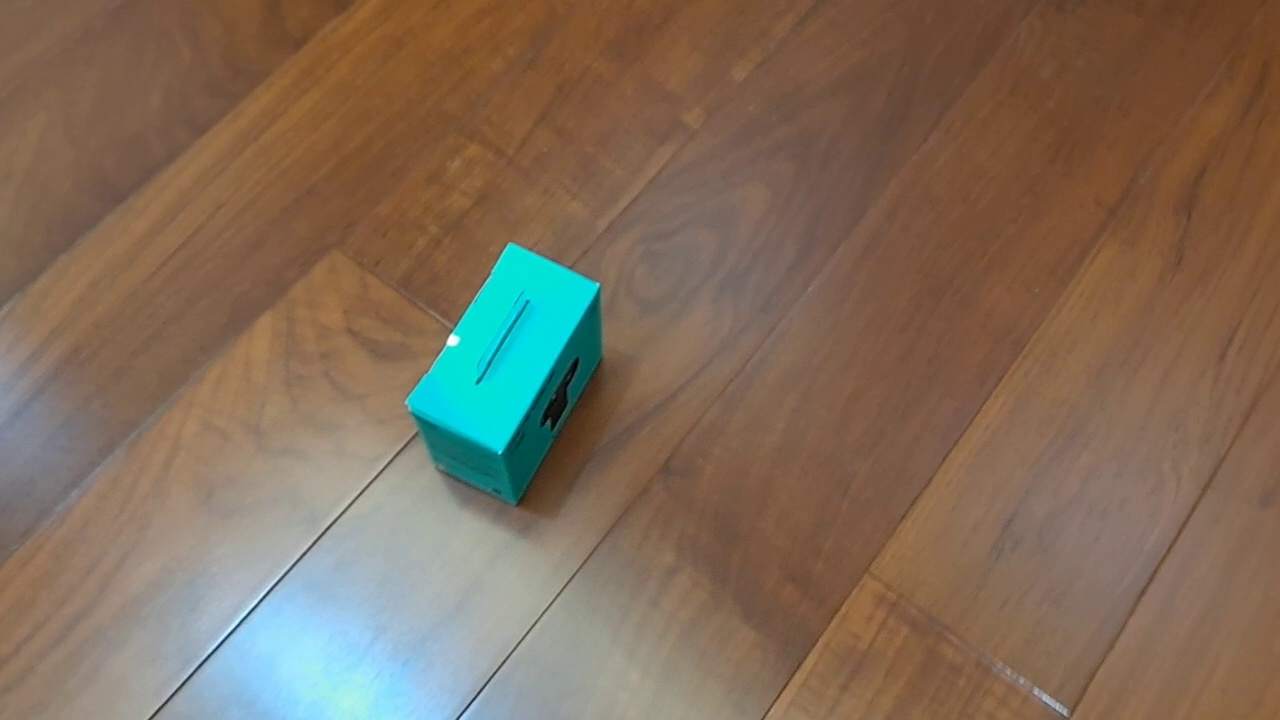webcam: (404, 241, 603, 507)
